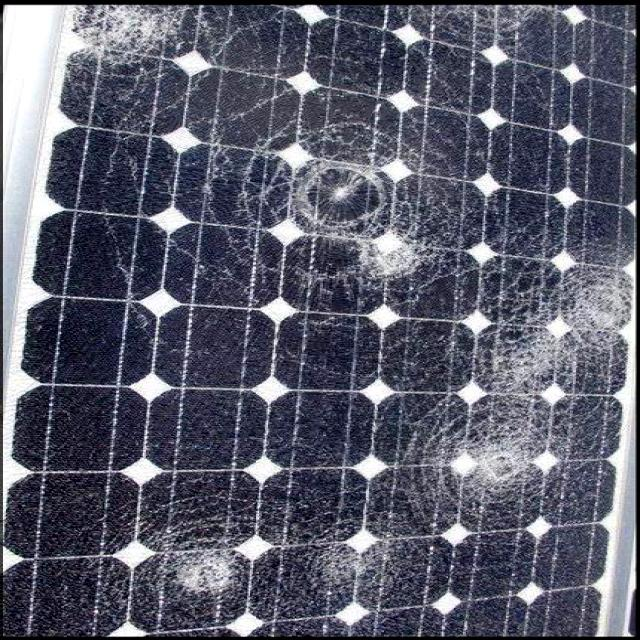hotspot: (396, 371, 574, 530), (290, 131, 444, 295), (116, 521, 292, 611), (68, 0, 217, 103), (380, 0, 602, 69), (536, 268, 640, 359), (315, 507, 383, 606)
